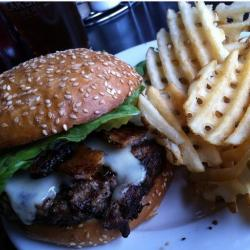burger: (1, 49, 168, 242)
fries: (144, 8, 250, 152)
